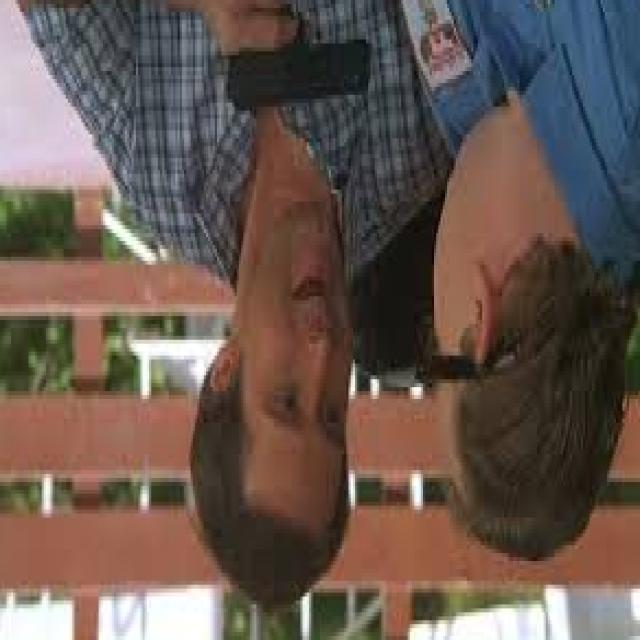gun: (208, 0, 386, 146)
